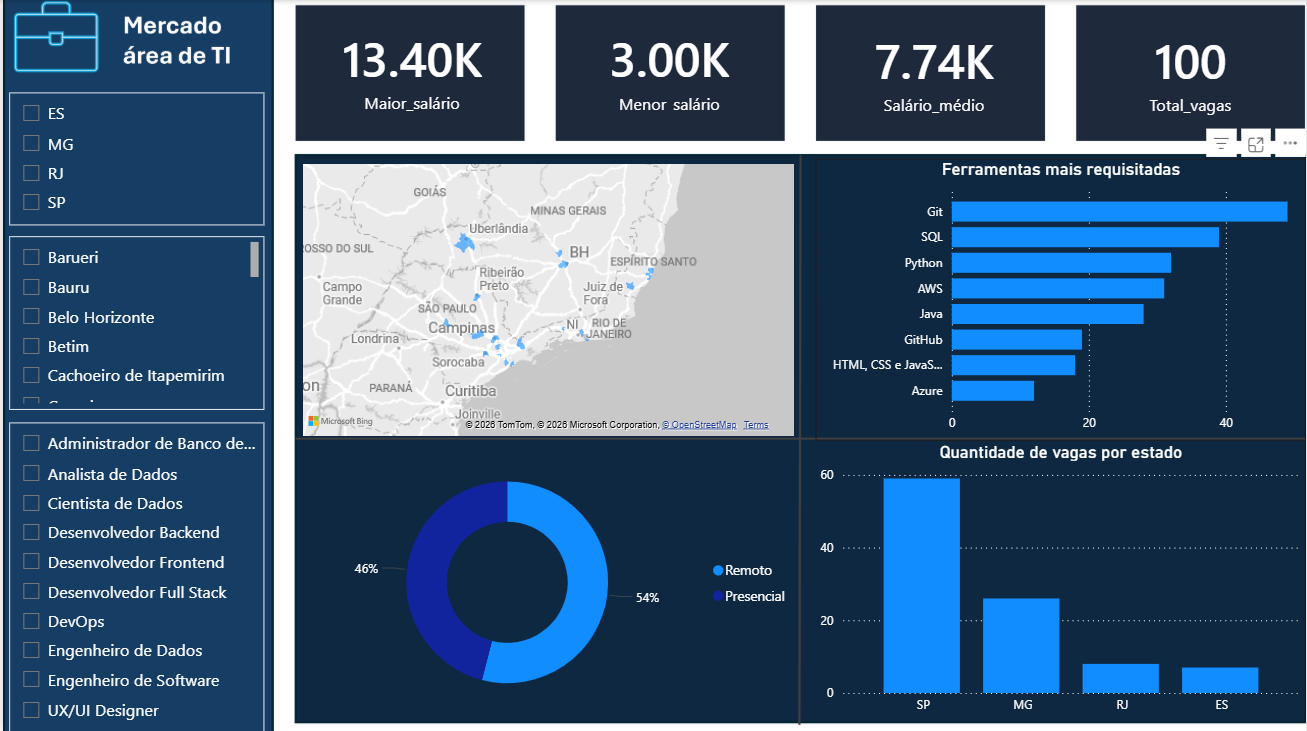

This screenshot's page, from the dashboard's own definition file:
{"tool":"powerbi","page":{"name":"Page 1","canvas":[1280,720],"ordinal":0},"visuals":[{"type":"slicer","fields":{"Values":["localizacao.estado"]},"box":[6.1,90.8,250.3,130.1],"z":0},{"type":"slicer","fields":{"Values":["funcao.nome_funcao"]},"box":[6.1,414.7,250.3,305.5],"z":1000},{"type":"cardVisual","fields":{"Data":["vaga.Maior_salário"]},"box":[289.6,0,224.5,137.4],"z":2000},{"type":"cardVisual","fields":{"Data":["vaga.Menor_salário"]},"box":[565.6,11,177.9,115.3],"z":3000},{"type":"cardVisual","fields":{"Data":["vaga.Salário_médio"]},"box":[797.6,3.7,233.1,133.7],"z":4000},{"type":"clusteredColumnChart","title":"Quantidade de vagas por estado","fields":{"Y":["vaga.Total_vagas"],"Category":["localizacao.estado"]},"box":[797.6,433.1,482.2,277.3],"z":5000},{"type":"clusteredBarChart","title":"Ferramentas mais requisitadas","fields":{"Category":["habilidade.nome_habilidade"],"Y":["CountNonNull(vaga_habilidade.id_habilidade)"]},"box":[797.6,155.8,482.2,277.3],"z":6000},{"type":"cardVisual","fields":{"Data":["vaga.Total_vagas"]},"box":[1051.5,3.7,228.2,133.7],"z":8000},{"type":"donutChart","fields":{"Category":["modalidade.nome_modalidade"],"Y":["vaga.Total_vagas"]},"box":[289.6,433.1,492,277.3],"z":9000},{"type":"filledMap","fields":{"Category":["localizacao.cidade"]},"box":[289.6,155.8,492,277.3],"z":10000},{"type":"slicer","fields":{"Values":["localizacao.cidade"]},"box":[6.1,231.9,250.3,170.6],"z":10001}]}

Visuals, with their boxes in screenshot pixels (x1, y1, x2, y2), scaled from the page's 1280x720 canvas onto the 1307x731 screenshot:
slicer - localizacao.estado: <region>6, 92, 262, 224</region>
slicer - funcao.nome_funcao: <region>6, 421, 262, 730</region>
cardVisual - vaga.Maior_salário: <region>296, 0, 525, 139</region>
cardVisual - vaga.Menor_salário: <region>578, 11, 759, 128</region>
cardVisual - vaga.Salário_médio: <region>814, 4, 1052, 139</region>
"Quantidade de vagas por estado" clusteredColumnChart: <region>814, 440, 1306, 721</region>
"Ferramentas mais requisitadas" clusteredBarChart: <region>814, 158, 1306, 440</region>
cardVisual - vaga.Total_vagas: <region>1074, 4, 1306, 139</region>
donutChart - modalidade.nome_modalidade x vaga.Total_vagas: <region>296, 440, 798, 721</region>
filledMap - localizacao.cidade: <region>296, 158, 798, 440</region>
slicer - localizacao.cidade: <region>6, 235, 262, 409</region>
